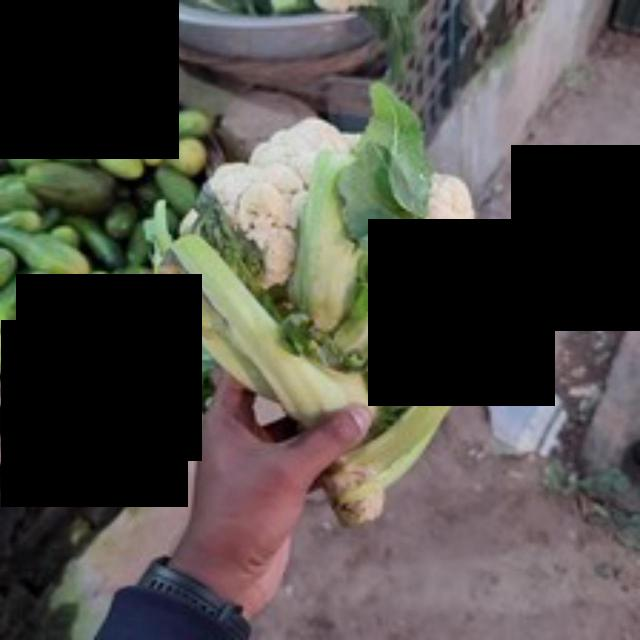cauliflower: (188, 103, 504, 286)
